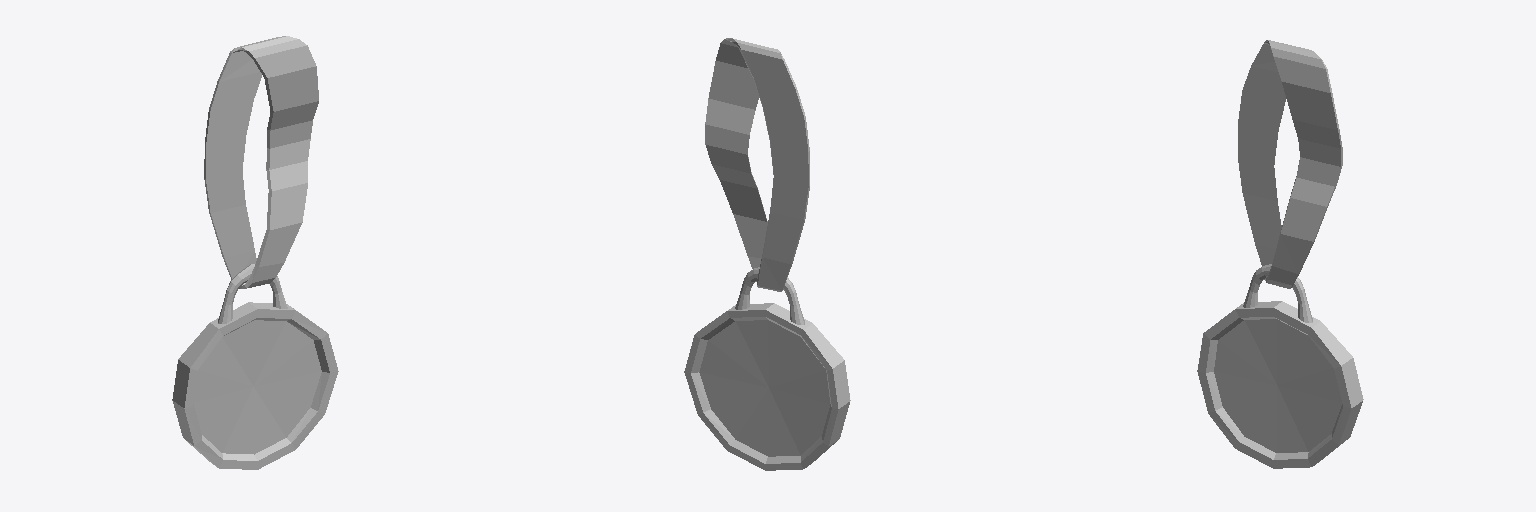
Rendered from Gold Medal.obj.
The picture shows the model from 3 angles: view 1: azimuth 30°, elevation 25°; view 2: azimuth 150°, elevation 25°; view 3: azimuth 330°, elevation 25°; orthographic projection.
Visible parts, largest first — view 1: GoldMedal; view 2: GoldMedal; view 3: GoldMedal.
Boxes of the visible parts, <box> form: GoldMedal: <box>172,36,338,469</box>; GoldMedal: <box>684,38,850,470</box>; GoldMedal: <box>1197,40,1363,468</box>.
Bounding box in the file's own units: 0.3383 × 0.8825 × 0.0499.